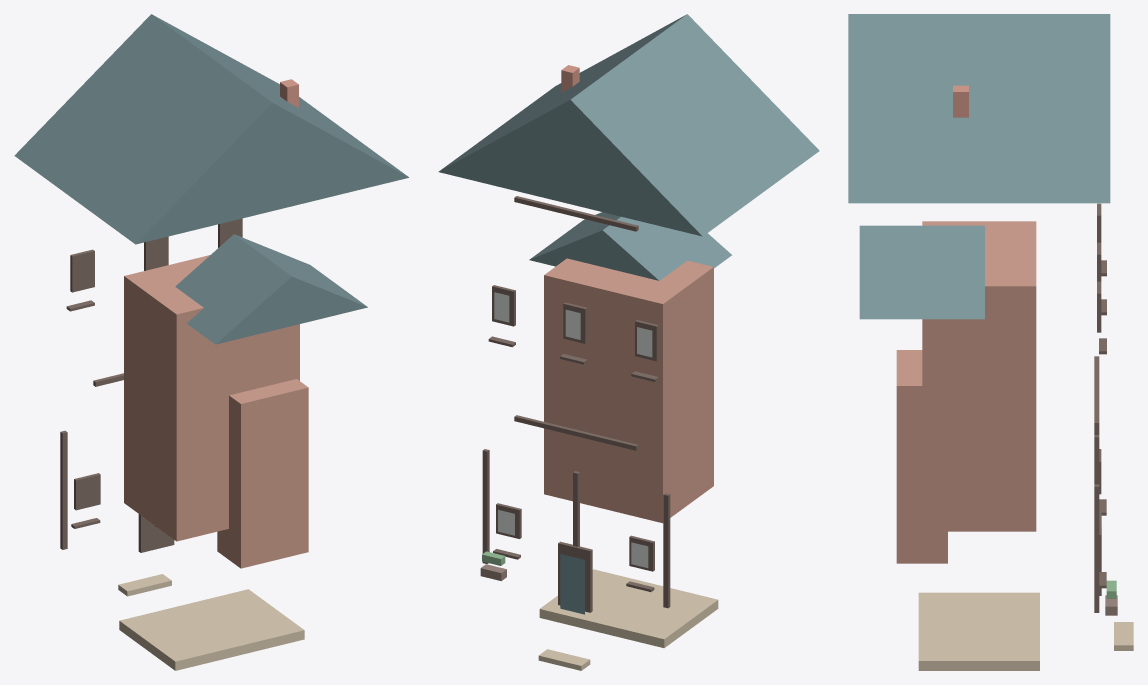
The model's file is harbour-chandlery-01.glb.
3 renders of one model, left to right at view 1: azimuth 30°, elevation 25°; view 2: azimuth 150°, elevation 25°; view 3: azimuth 270°, elevation 25°, orthographic. The views are drawn at different scales.
Parts seen in each view (by area): view 1: roof, body, wing, wing_roof, plinth, uwf_1_-0.75, up_-0.95, wf_-0.70, door_frame, uwf_1_0.00, step; view 2: roof, body, wing_roof, plinth, door, door_frame, up_-0.95, beam_2, beam_1, up_0.95, step; view 3: roof, body, wing_roof, plinth, wing, up_0.95, step, chimney, beam_1.
Boxes of the visible parts, x1=… form: roof: x1=14, y1=14, x2=408, y2=244; body: x1=124, y1=255, x2=299, y2=541; wing: x1=217, y1=379, x2=308, y2=568; wing_roof: x1=175, y1=234, x2=367, y2=344; plinth: x1=119, y1=589, x2=304, y2=670; uwf_1_-0.75: x1=70, y1=249, x2=94, y2=292; up_-0.95: x1=60, y1=430, x2=67, y2=549; wf_-0.70: x1=74, y1=473, x2=100, y2=510; door_frame: x1=138, y1=514, x2=174, y2=552; uwf_1_0.00: x1=144, y1=236, x2=168, y2=270; step: x1=118, y1=574, x2=171, y2=596; roof: x1=438, y1=14, x2=819, y2=236; body: x1=544, y1=258, x2=713, y2=523; wing_roof: x1=529, y1=212, x2=731, y2=280; plinth: x1=539, y1=569, x2=718, y2=647; door: x1=560, y1=554, x2=584, y2=614; door_frame: x1=558, y1=541, x2=592, y2=612; up_-0.95: x1=663, y1=493, x2=670, y2=608; beam_2: x1=514, y1=196, x2=638, y2=231; beam_1: x1=514, y1=415, x2=638, y2=450; up_0.95: x1=482, y1=449, x2=489, y2=563; step: x1=538, y1=649, x2=590, y2=670; roof: x1=848, y1=14, x2=1110, y2=203; body: x1=922, y1=221, x2=1036, y2=531; wing_roof: x1=859, y1=225, x2=984, y2=319; plinth: x1=918, y1=592, x2=1039, y2=670; wing: x1=896, y1=350, x2=947, y2=563; up_0.95: x1=1094, y1=484, x2=1099, y2=612; step: x1=1114, y1=622, x2=1133, y2=650; chimney: x1=953, y1=85, x2=968, y2=117; beam_1: x1=1094, y1=356, x2=1099, y2=427.
Size of the model in its own units: 2.78 by 5.61 by 2.32.
